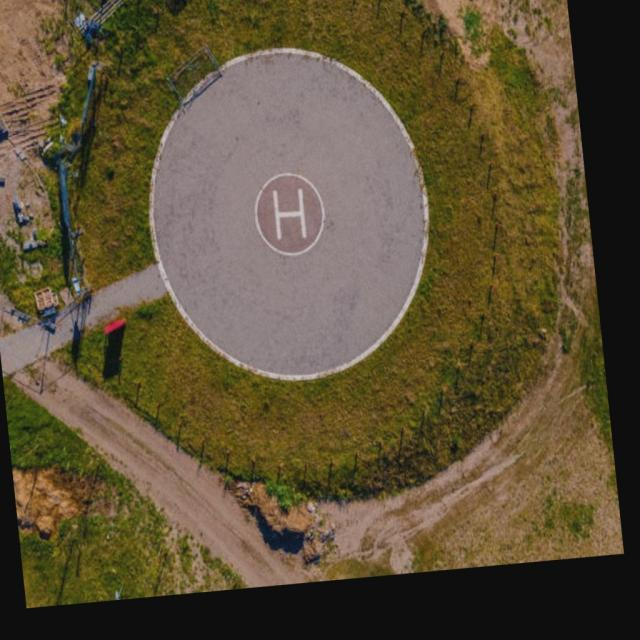helipad: (251, 169, 326, 257)
